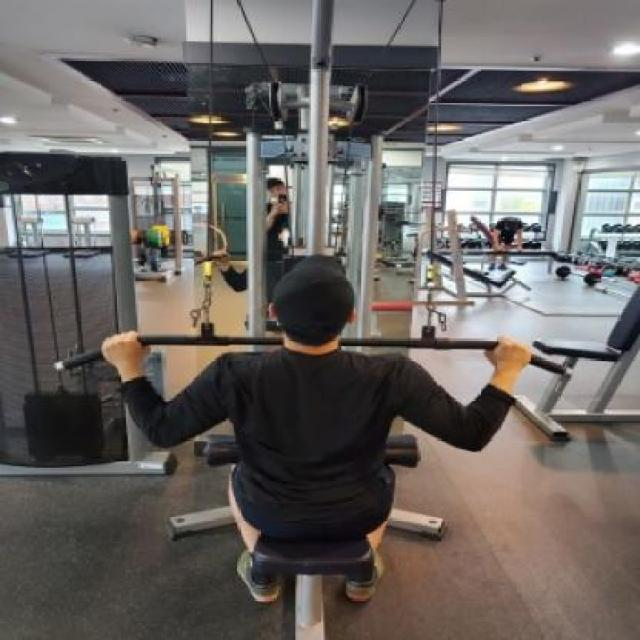Lat Pull Down: (47, 0, 576, 640)
